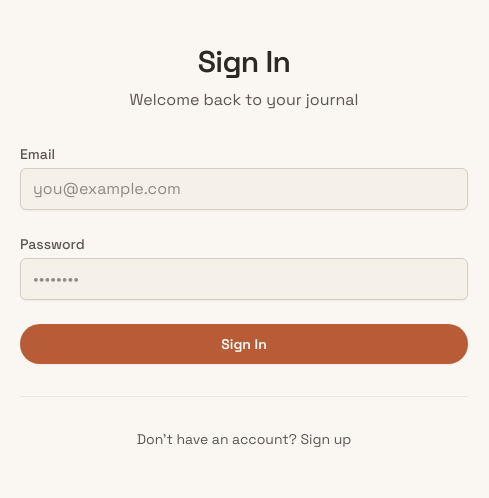
AuthForm › displays error on login failure
Type "bad@example.com" into the field labelled "Email" at (244, 188), box [20,168,468,210]
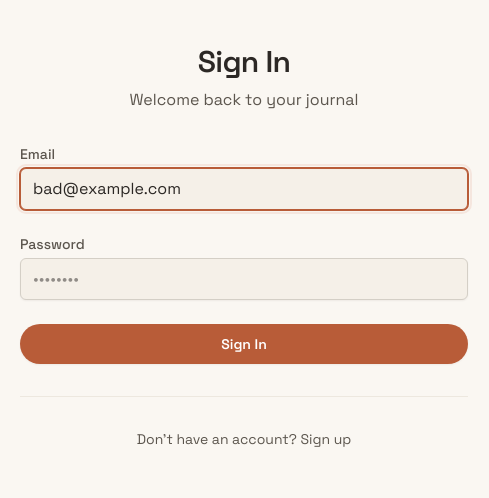
Type "wrong" into the password field labelled "Password" at (244, 278), box [20,258,468,300]
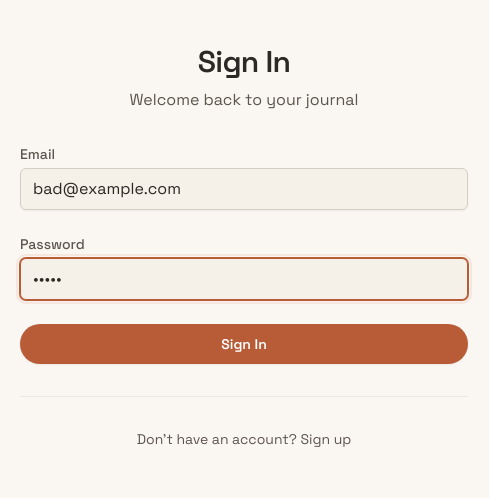
Click the button "Sign In" at (244, 344), box [20,324,468,364]
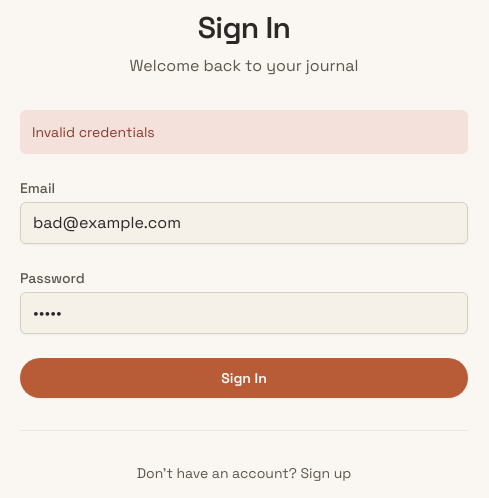
Now the text "Invalid credentials" is shown, box [20,110,468,154]
